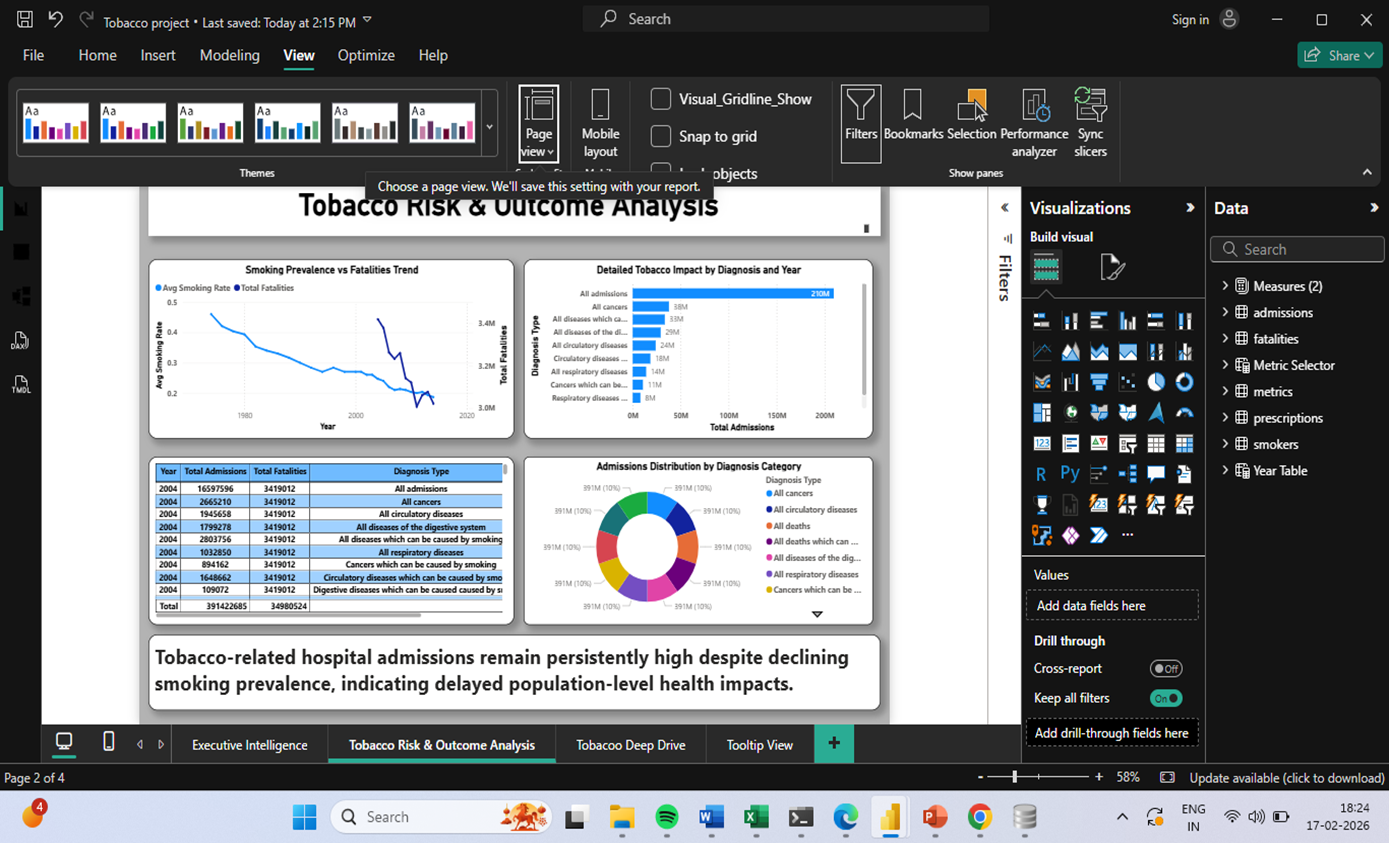

The page's visual inventory and layout, read from the dashboard file:
{"tool":"powerbi","page":{"name":"Tobacco Risk & Outcome Analysis","canvas":[1280,850],"ordinal":1},"visuals":[{"type":"textbox","title":"Tobacco Risk & Outcome Analysis","box":[15.6,0,1249,78.1],"z":0},{"type":"lineChart","title":"Smoking Prevalence vs Fatalities Trend","fields":{"Category":["Year Table.Year"],"Y":["Measures (2).Avg Smoking Rate"],"Y2":["Measures (2).Total Fatalities"]},"box":[16,114,624,284],"z":2000},{"type":"clusteredBarChart","title":"Detailed Tobacco Impact by Diagnosis and Year","fields":{"Category":["admissions.Diagnosis Type"],"Y":["Measures (2).Total Admissions"]},"box":[656,114,596,284],"z":3000},{"type":"tableEx","fields":{"Values":["Year Table.Year","Measures (2).Total Admissions","Measures (2).Total Fatalities","admissions.Diagnosis Type","Measures (2).Total Prescriptions"]},"box":[16,426,624,266],"z":4000},{"type":"textbox","box":[15.9,707.2,1248.5,119.9],"z":5000},{"type":"donutChart","title":"Admissions Distribution by Diagnosis Category","fields":{"Category":["fatalities.Diagnosis Type"],"Y":["Measures (2).Total Admissions"]},"box":[656,426,596,266],"z":5001}]}

Visuals, with their boxes on the page's 1280x850 design canvas (x1, y1, x2, y2). These are canvas units, not pixel positions in the 1389x843 screenshot, which may show the page scaled, cropped or inside an application window:
"Tobacco Risk & Outcome Analysis" textbox: <bbox>16, 0, 1265, 78</bbox>
"Smoking Prevalence vs Fatalities Trend" lineChart: <bbox>16, 114, 640, 398</bbox>
"Detailed Tobacco Impact by Diagnosis and Year" clusteredBarChart: <bbox>656, 114, 1252, 398</bbox>
tableEx - Year Table.Year x Measures (2).Total Admissions: <bbox>16, 426, 640, 692</bbox>
textbox: <bbox>16, 707, 1264, 827</bbox>
"Admissions Distribution by Diagnosis Category" donutChart: <bbox>656, 426, 1252, 692</bbox>
